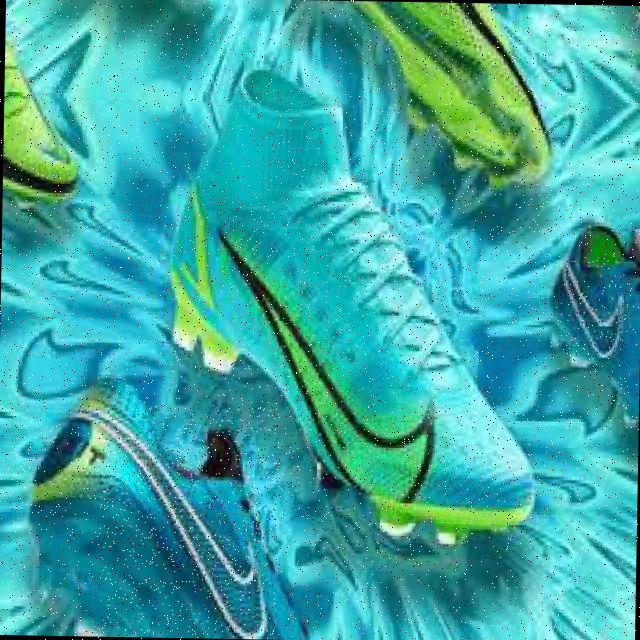Nike: (209, 225, 442, 500), (98, 404, 279, 636), (559, 254, 629, 358)
